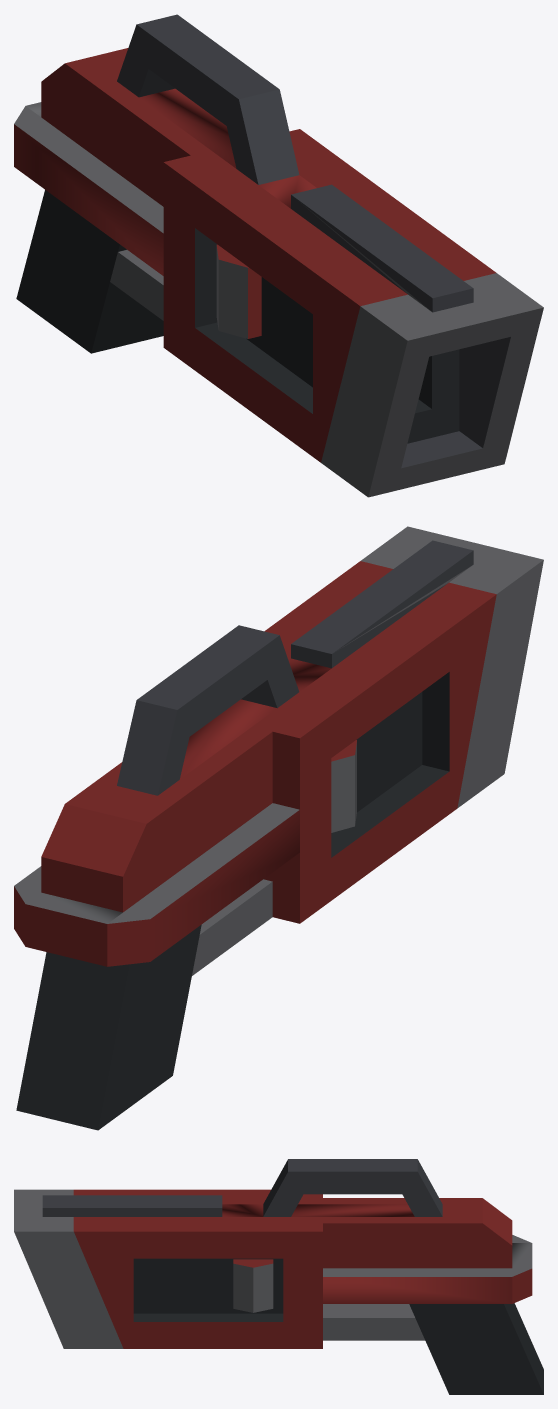
The model's file is Blaster1.fbx.
3 renders of one model, top to bottom at view 1: azimuth 30°, elevation 25°; view 2: azimuth 150°, elevation 25°; view 3: azimuth 270°, elevation 25°, orthographic. The views are drawn at different scales.
Parts seen in each view (by area): view 1: blasterH; view 2: blasterH; view 3: blasterH.
Part boxes in pixels (x1,y1,x2,y2): blasterH: (14, 14, 543, 497); blasterH: (14, 526, 543, 1130); blasterH: (14, 1159, 543, 1394).
Size of the model in its own units: 16.55 by 39.72 by 87.99.
